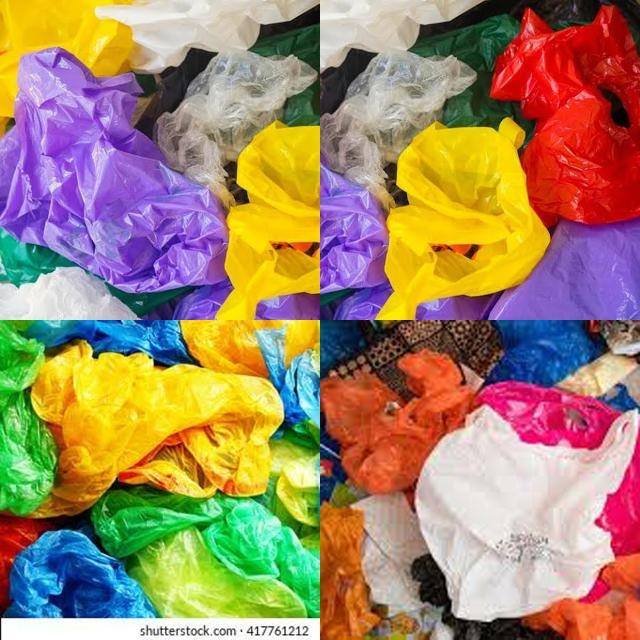Single-layer Plastic: (0, 48, 228, 292), (415, 405, 640, 621), (31, 341, 284, 518), (378, 119, 549, 319), (490, 6, 640, 225), (91, 485, 319, 616), (155, 50, 316, 207), (320, 50, 476, 209), (321, 349, 475, 493), (218, 122, 320, 323), (95, 0, 319, 73), (128, 528, 306, 618), (0, 0, 134, 119), (490, 218, 640, 320), (5, 530, 156, 618), (320, 0, 482, 70), (0, 321, 58, 515), (522, 552, 640, 640), (476, 381, 620, 448), (320, 164, 389, 292), (180, 318, 320, 377), (24, 320, 195, 366), (320, 506, 379, 639), (486, 320, 604, 386), (0, 268, 138, 320), (259, 421, 319, 538), (256, 326, 320, 425)
